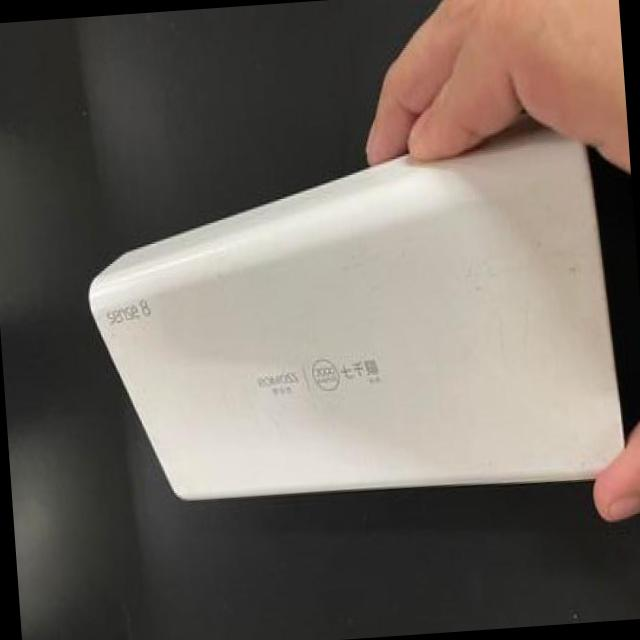portable-charger: (69, 103, 632, 520)
